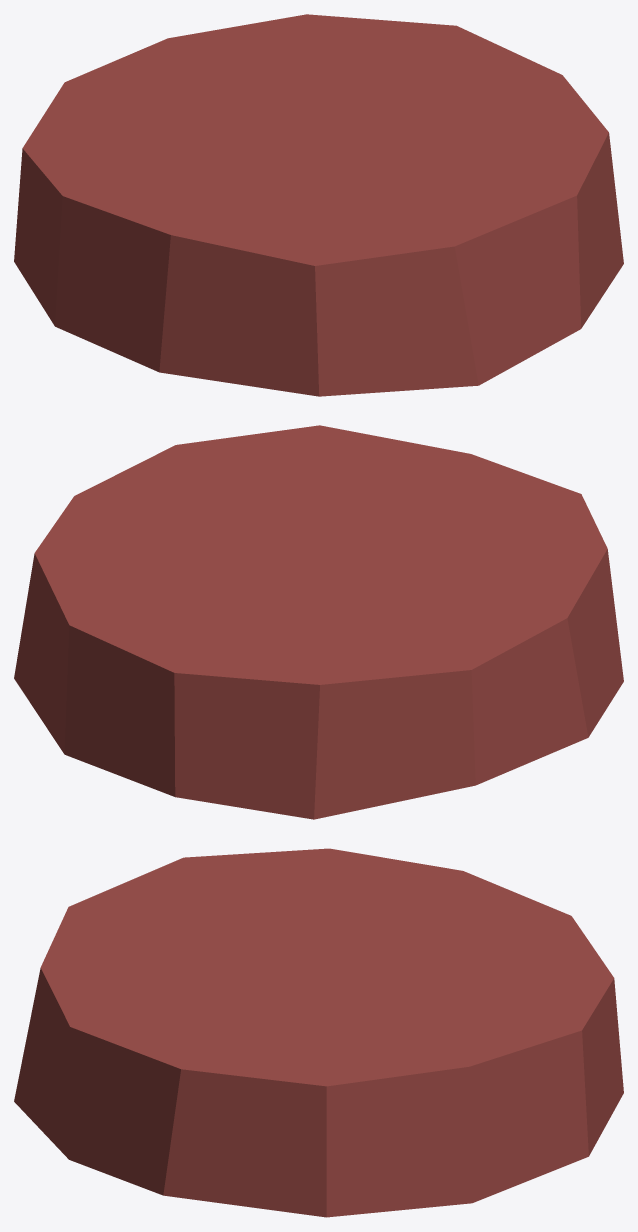
Rendered from meat_whole.glb.
The picture shows the model from 3 angles, top to bottom: view 1: azimuth 30°, elevation 25°; view 2: azimuth 150°, elevation 25°; view 3: azimuth 270°, elevation 25°; orthographic projection. The views are drawn at different scales.
Parts seen in each view (by area): view 1: meat_whole_0; view 2: meat_whole_0; view 3: meat_whole_0.
Part boxes in pixels (x1,y1,x2,y2): meat_whole_0: (14,14,623,396); meat_whole_0: (14,425,623,819); meat_whole_0: (14,848,623,1217).
Size of the model in its own units: 0.2688 by 0.0688 by 0.2736.
